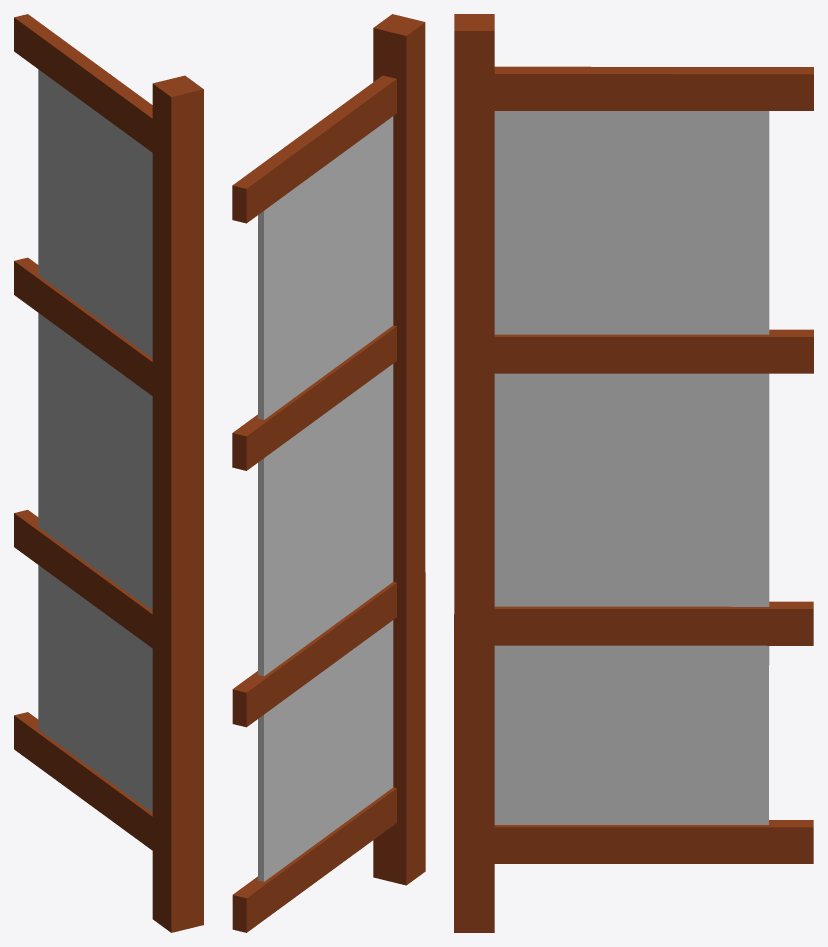
File: SM_Mill_Wing_level0.fbx
The picture shows the model from 3 angles, left to right: view 1: azimuth 30°, elevation 25°; view 2: azimuth 150°, elevation 25°; view 3: azimuth 270°, elevation 25°; orthographic projection. The views are drawn at different scales.
Visible parts, largest first — view 1: Cube.185; view 2: Cube.185; view 3: Cube.185.
Part boxes in pixels (x1,y1,x2,y2): Cube.185: (14, 14, 203, 932); Cube.185: (232, 14, 425, 932); Cube.185: (454, 14, 813, 932).
Size of the model in its own units: 54.55 by 1339 by 484.
